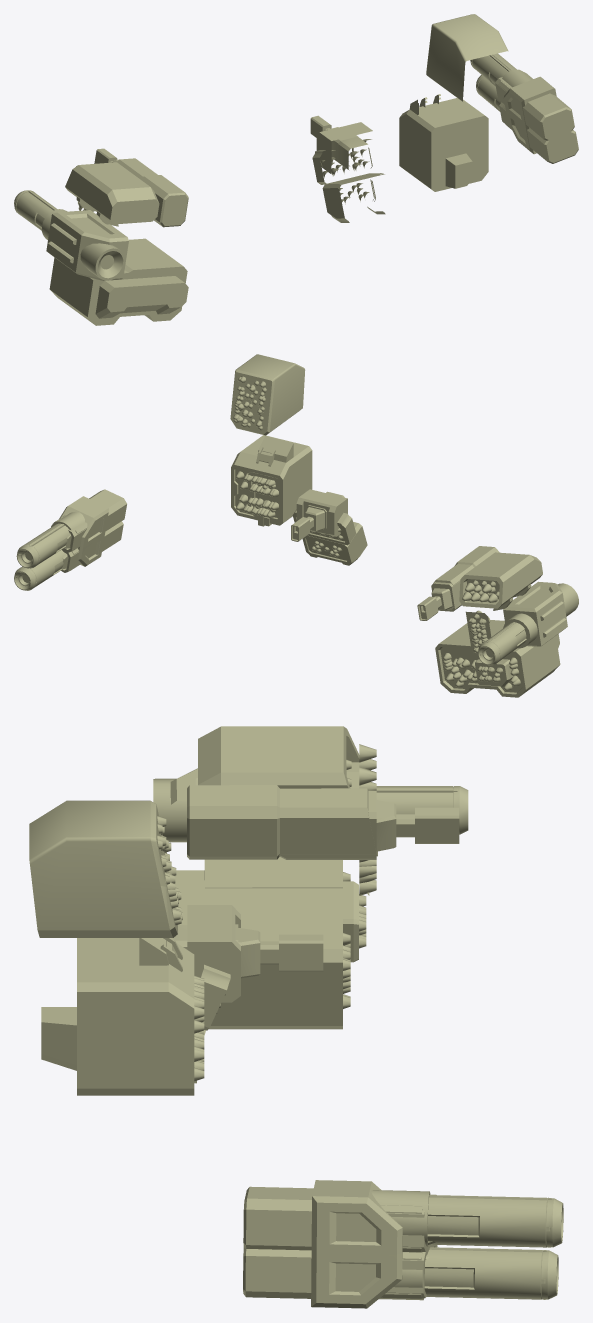
File: KintaroWeapons.glb
The picture shows the model from 3 angles, top to bottom: view 1: azimuth 30°, elevation 25°; view 2: azimuth 150°, elevation 25°; view 3: azimuth 270°, elevation 25°; orthographic projection. The views are drawn at different scales.
Visible parts, largest first — view 1: Forearm_Left_MH1_Missile10, Torso_Right_MH1_Missile10, Forearm_Left_EH1_PPC, Forearm_Left_MH2_Missile10, Torso_Right_MH2_Missile10, Forearm_Left_MH1_Missile15, Forearm_Right_EH1_PPC, Forearm_Right_EH1_Laser, Forearm_Left_EH1_Laser, Torso_Right_MH1_Missile2, Torso_Right_MH1_Missile15, Torso_Center_EH1_Laser (+10 smaller); view 2: Forearm_Left_EH1_PPC, Torso_Right_MH1_Missile10, Forearm_Left_MH1_Missile10, Torso_Right_MH2_Missile10, Forearm_Left_MH2_Missile10, Forearm_Right_EH1_PPC, Torso_Right_MH1_Missile20, Forearm_Left_MH2_Missile20, Forearm_Right_EH2_PPC, Torso_Right_MH1_Missile15, Forearm_Left_EH1_Flamer, Torso_Center_EH1_Flamer (+13 smaller); view 3: Torso_Right_MH1_Missile10, Forearm_Left_MH1_Missile10, Torso_Right_MH2_Missile10, Forearm_Right_EH1_PPC, Forearm_Left_EH1_Laser, Forearm_Right_EH2_PPC, Forearm_Left_MH2_Missile10, Torso_Right_MH1_Missile15, Forearm_Left_MH2_Missile20, Forearm_Left_MH1_Missile15, Torso_Center_EH1_Flamer, Forearm_Right_EH1_Laser (+11 smaller).
Part boxes in pixels (x1,y1,x2,y2): Forearm_Left_MH1_Missile10: [50, 239, 188, 325]; Torso_Right_MH1_Missile10: [399, 94, 488, 191]; Forearm_Left_EH1_PPC: [14, 190, 128, 280]; Forearm_Left_MH2_Missile10: [65, 162, 159, 226]; Torso_Right_MH2_Missile10: [426, 14, 507, 102]; Forearm_Left_MH1_Missile15: [49, 238, 184, 321]; Forearm_Right_EH1_PPC: [470, 53, 556, 126]; Forearm_Right_EH1_Laser: [495, 77, 574, 140]; Forearm_Left_EH1_Laser: [117, 158, 188, 227]; Torso_Right_MH1_Missile2: [418, 97, 472, 188]; Torso_Right_MH1_Missile15: [402, 94, 488, 189]; Torso_Center_EH1_Laser: [316, 122, 372, 173]; Forearm_Left_EH1_PPC: [478, 581, 578, 665]; Torso_Right_MH1_Missile10: [231, 435, 312, 526]; Forearm_Left_MH1_Missile10: [435, 621, 560, 697]; Torso_Right_MH2_Missile10: [233, 354, 305, 435]; Forearm_Left_MH2_Missile10: [459, 552, 542, 658]; Forearm_Right_EH1_PPC: [16, 496, 108, 568]; Torso_Right_MH1_Missile20: [231, 437, 312, 525]; Forearm_Left_MH2_Missile20: [459, 552, 538, 659]; Forearm_Right_EH2_PPC: [14, 534, 104, 590]; Torso_Right_MH1_Missile15: [231, 438, 309, 526]; Forearm_Left_EH1_Flamer: [417, 581, 461, 620]; Torso_Center_EH1_Flamer: [291, 498, 347, 541]; Torso_Right_MH1_Missile10: [41, 938, 204, 1095]; Forearm_Left_MH1_Missile10: [175, 857, 350, 1029]; Torso_Right_MH2_Missile10: [29, 800, 181, 937]; Forearm_Right_EH1_PPC: [311, 1180, 563, 1254]; Forearm_Left_EH1_Laser: [187, 785, 377, 859]; Forearm_Right_EH2_PPC: [311, 1247, 558, 1308]; Forearm_Left_MH2_Missile10: [198, 726, 359, 788]; Torso_Right_MH1_Missile15: [41, 938, 204, 1094]; Forearm_Left_MH2_Missile20: [198, 726, 376, 895]; Forearm_Left_MH1_Missile15: [211, 893, 350, 1028]; Torso_Center_EH1_Flamer: [187, 924, 323, 1002]; Forearm_Right_EH1_Laser: [243, 1186, 435, 1251].
Size of the model in its own units: 2 by 0.9042 by 0.9768.
